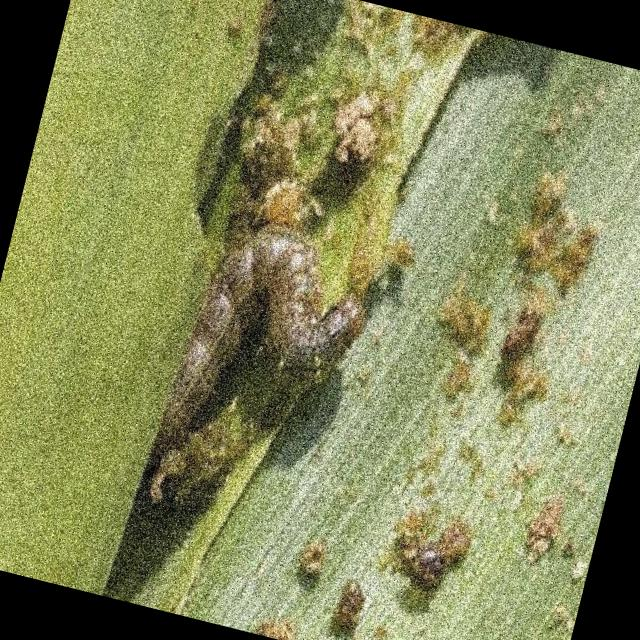pest: (158, 205, 386, 453)
